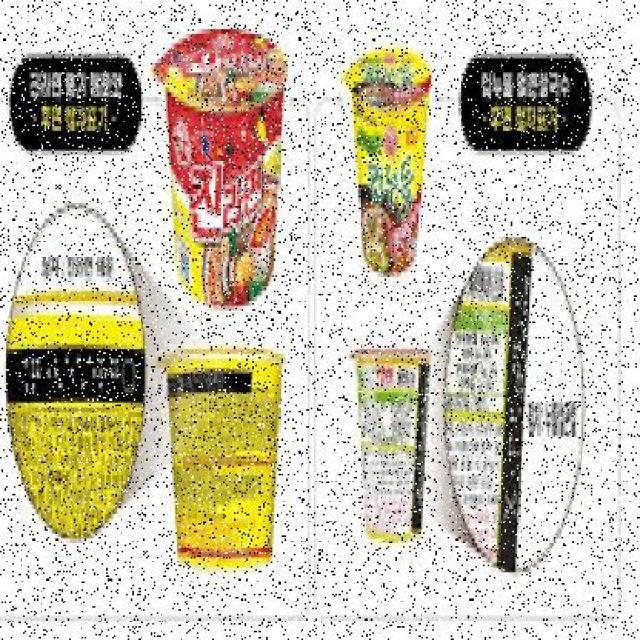Miscellaneous: (160, 14, 294, 323), (348, 37, 428, 286)
